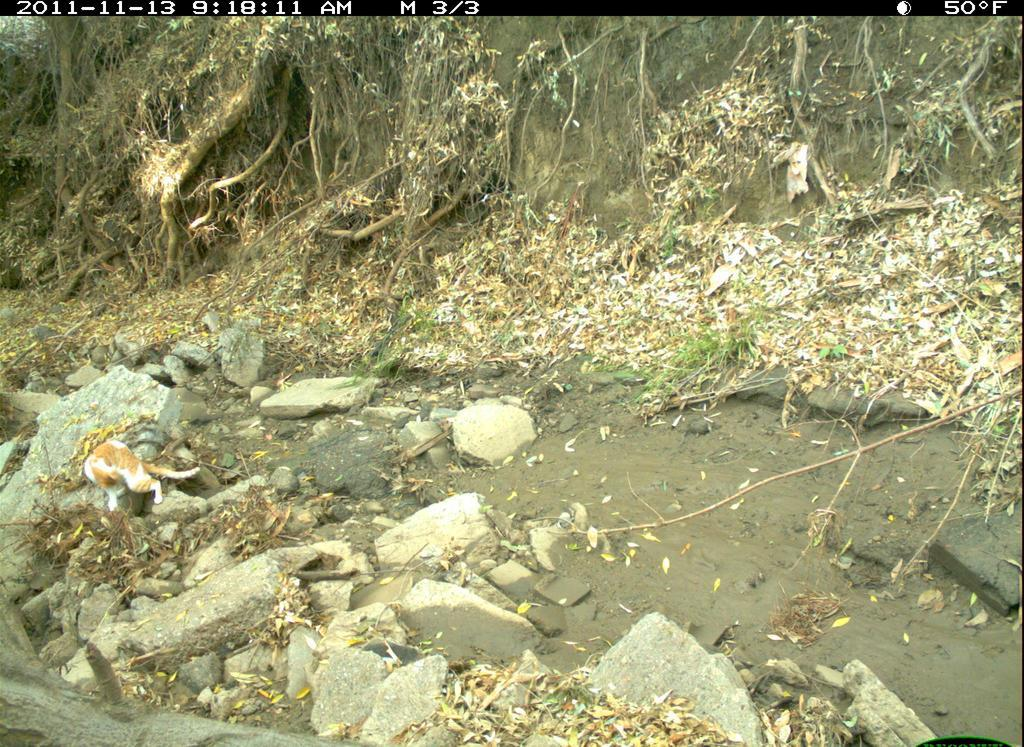cat: (63, 428, 210, 521)
